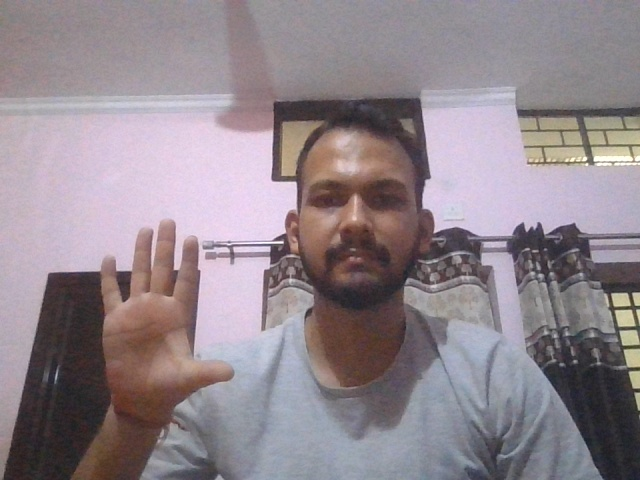hello: (86, 218, 236, 419)
